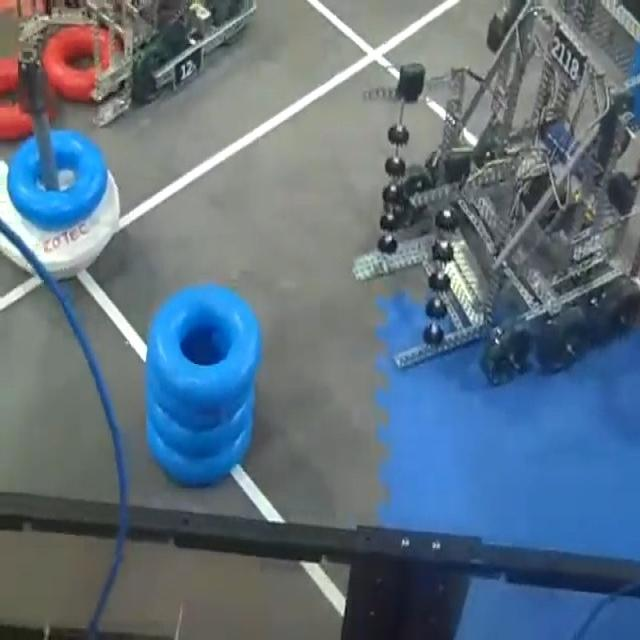Blue-Ring: (146, 283, 261, 412), (9, 130, 108, 230), (149, 392, 253, 460), (148, 418, 250, 486), (149, 387, 246, 428)
Red-Ring: (0, 57, 55, 138), (42, 27, 96, 101)
